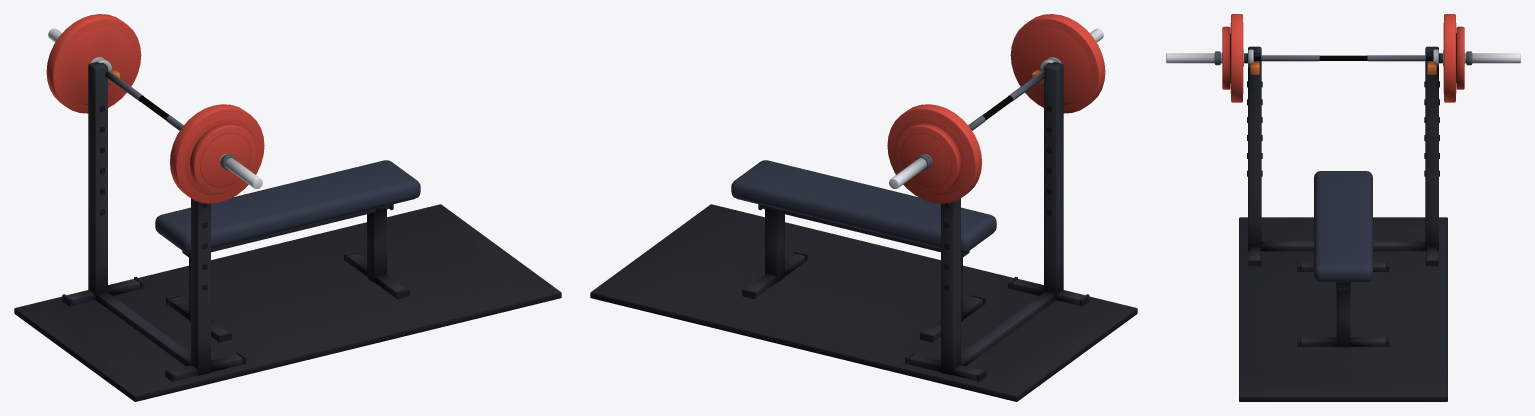
The model's file is m_bench.glb.
3 views of the same model, side by side, from view 1: azimuth 30°, elevation 25°; view 2: azimuth 150°, elevation 25°; view 3: azimuth 270°, elevation 25° (orthographic). The views are drawn at different scales.
Parts seen in each view (by area): view 1: static, o17; view 2: static, o17; view 3: static, o17.
Part boxes in pixels (x1,y1,x2,y2): static: [14, 62, 561, 401]; o17: [46, 14, 264, 203]; static: [590, 62, 1137, 401]; o17: [887, 14, 1105, 203]; static: [1239, 46, 1447, 401]; o17: [1166, 14, 1520, 102].
Size of the model in its own units: 2.16 by 1.34 by 1.8.
